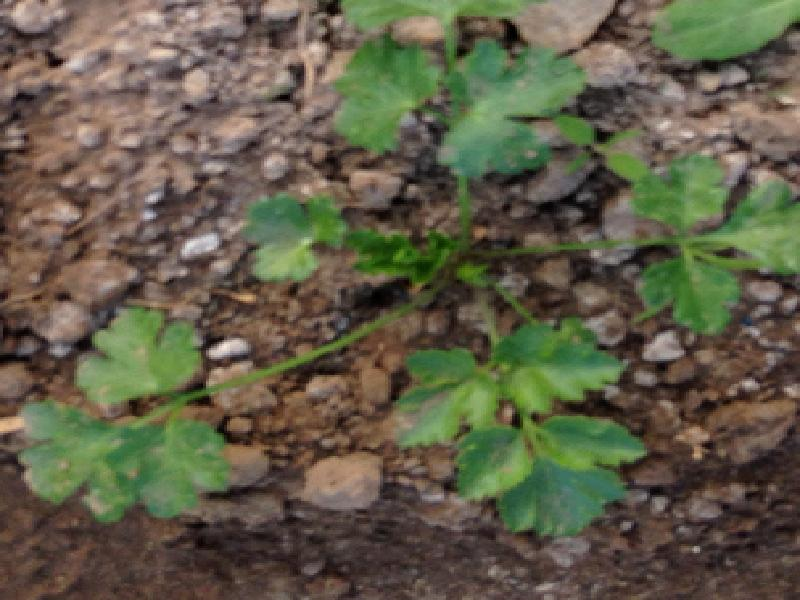radish: (36, 0, 800, 600)
